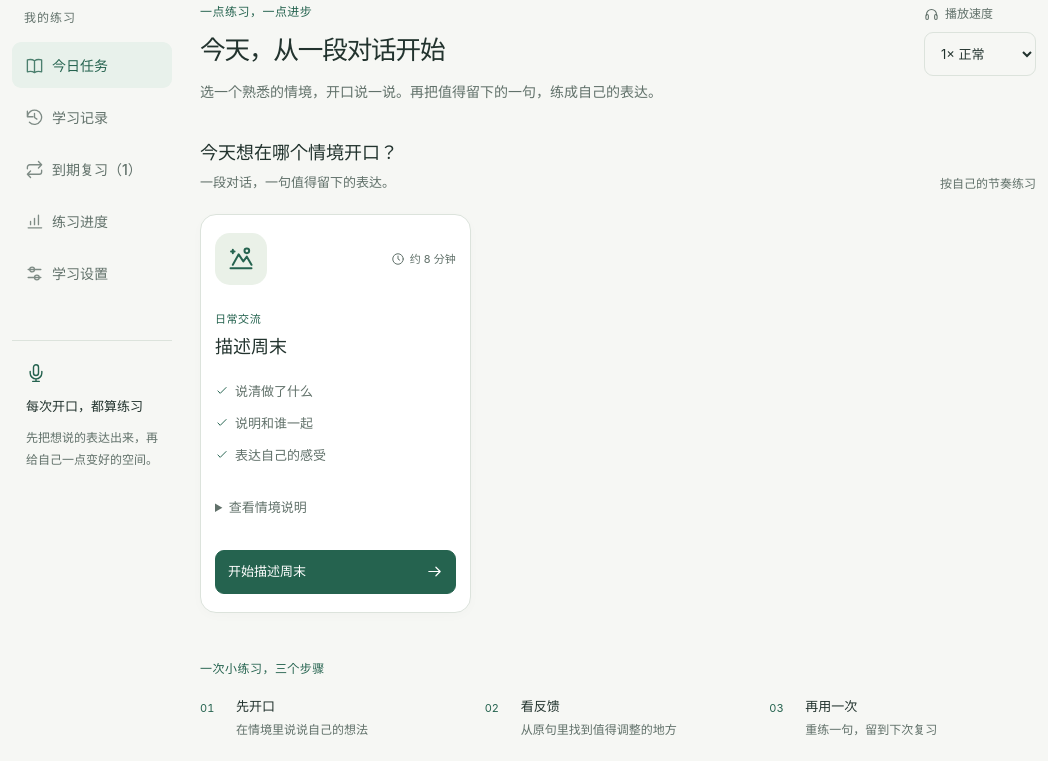
Scenario: refreshes a conflicting review before retry while retaining the unsent answer
Click the button "到期复习（1）" at point(92, 169), box [12,146,172,192]
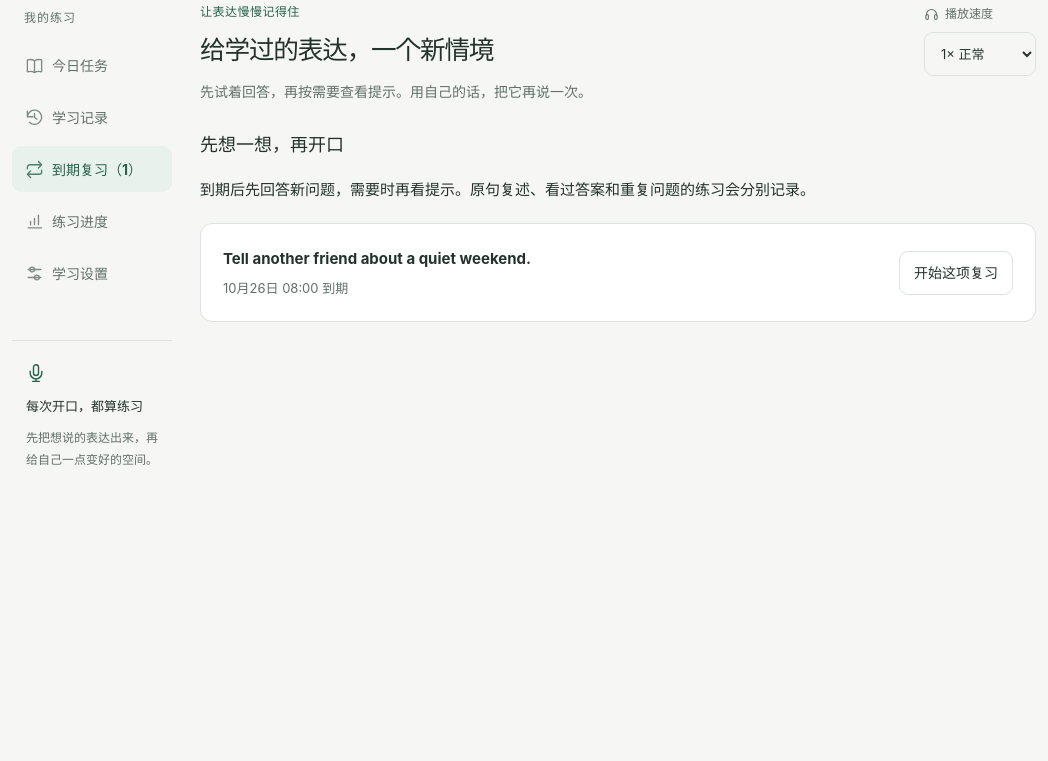
Click the button "开始这项复习" at point(956, 272), box [899,250,1013,294]
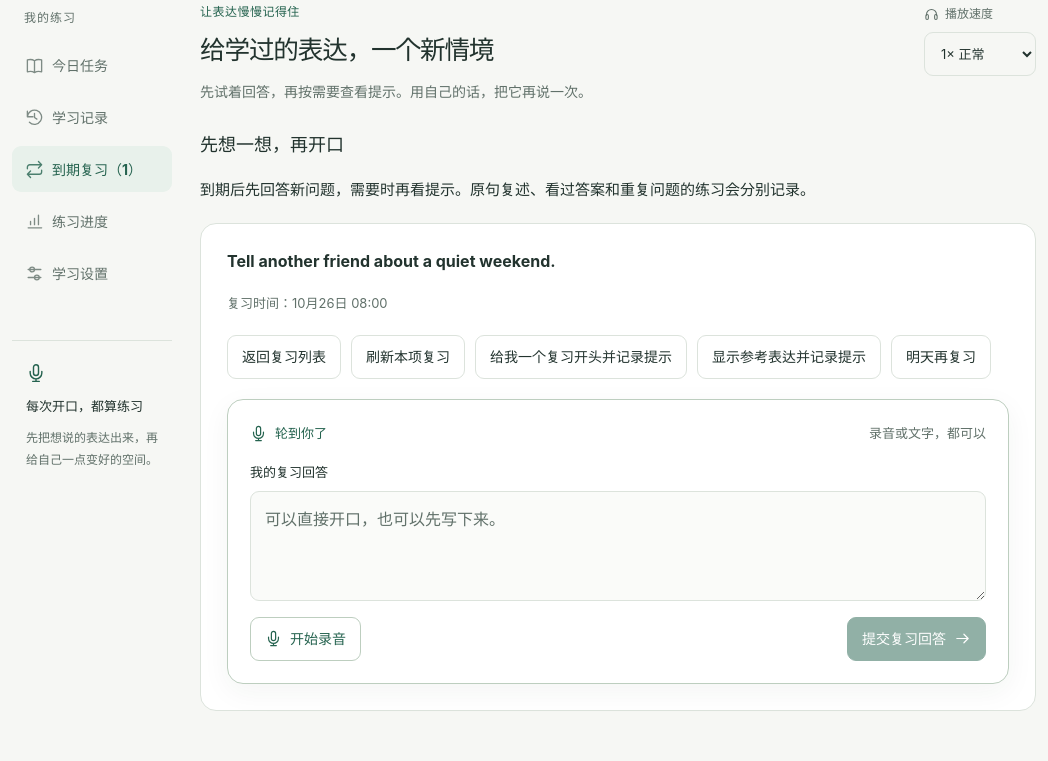
Type "A retained review draft." into the text box labelled "我的复习回答" at point(618, 546), box [250,491,986,601]
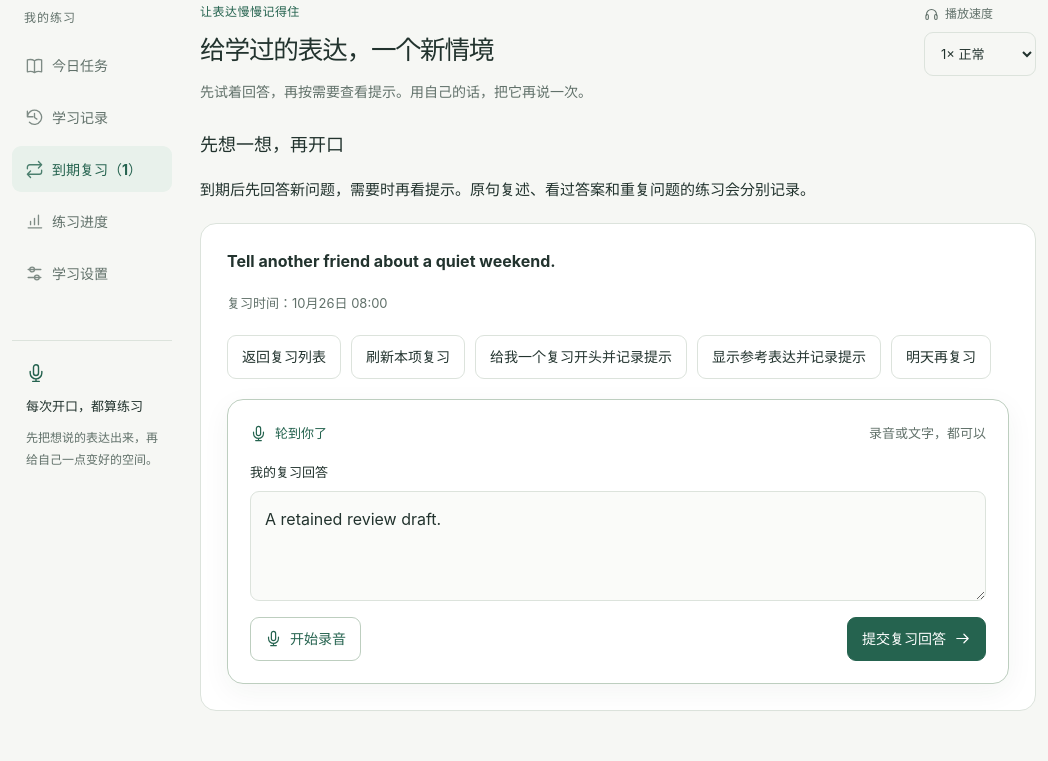
Click the button "提交复习回答" at point(916, 639), box [847,617,986,661]
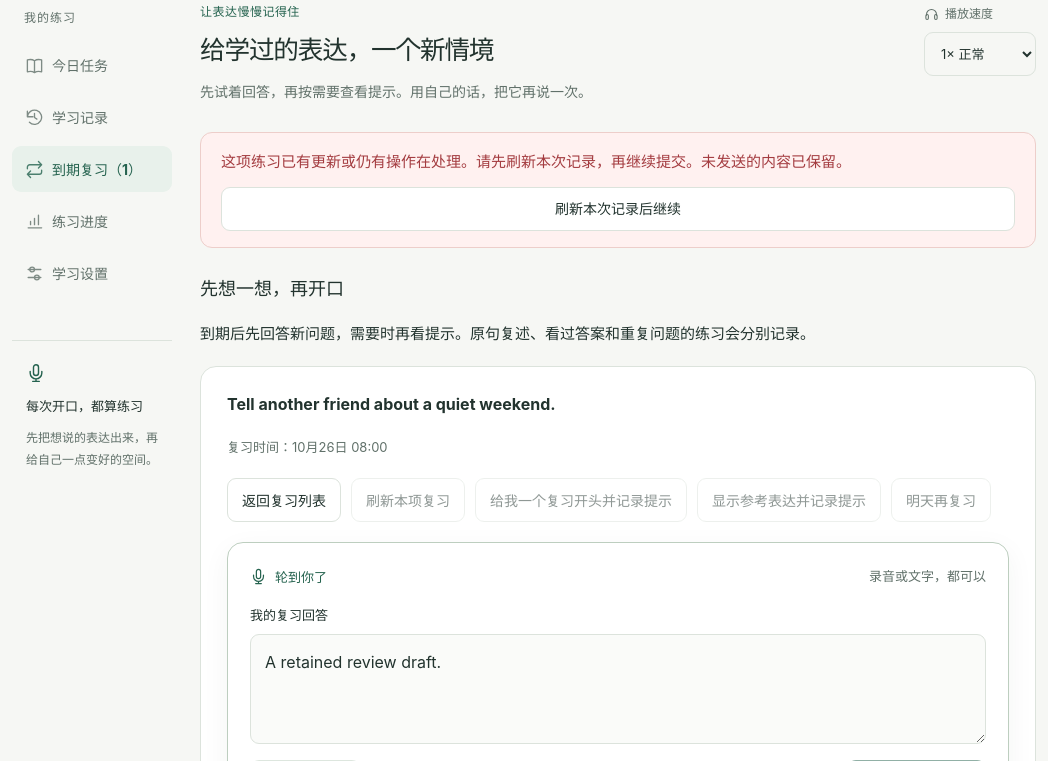
Click the button "刷新本次记录后继续" at point(618, 208), box [221,186,1015,230]
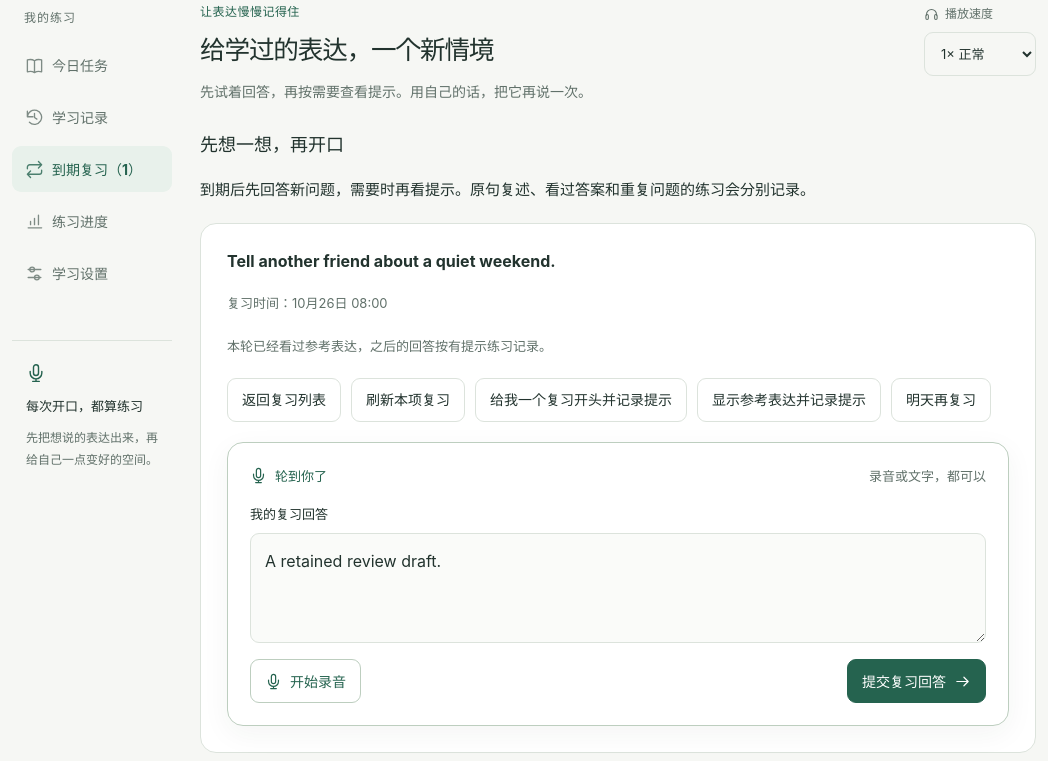
Check: the button "提交复习回答" is enabled, box [847,659,986,703]
Check: the text "本轮已经看过参考表达，之后的回答按有提示练习记录。" is shown, box [227,338,552,354]
